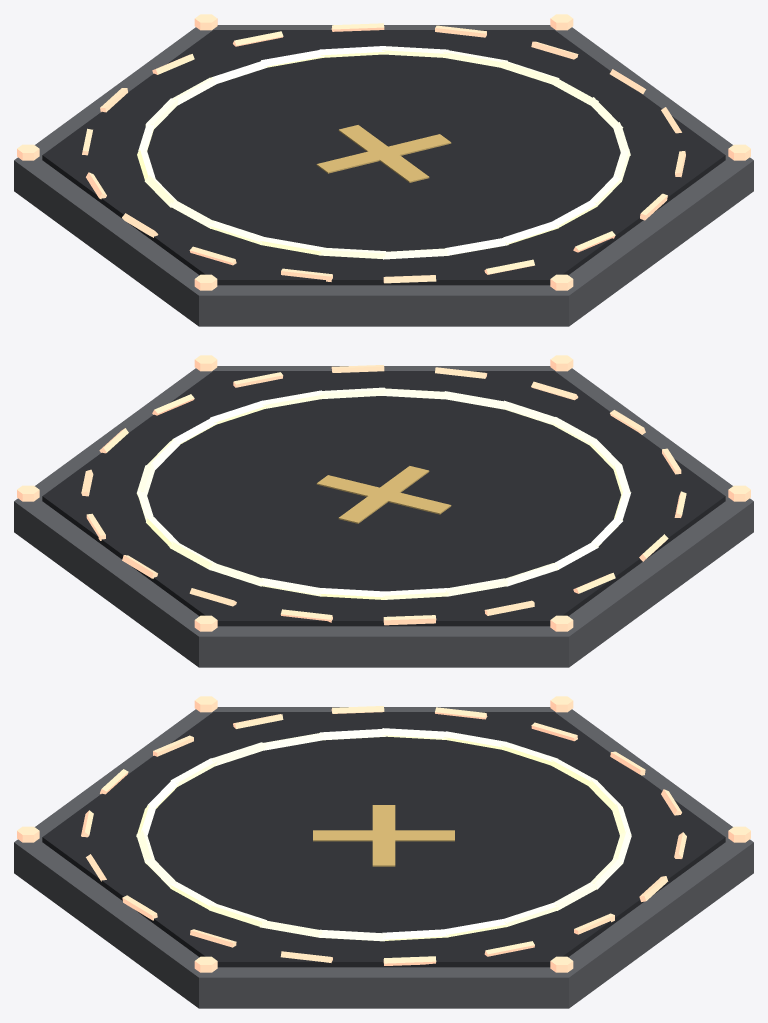
File: Prop_Aegis_LandingPad.fbx
3 renders of one model, top to bottom at view 1: azimuth 30°, elevation 25°; view 2: azimuth 150°, elevation 25°; view 3: azimuth 270°, elevation 25°, orthographic.
Parts seen in each view (by area): view 1: PLP_Top, PLP_Slab, PLP_Ring, PLP_Dash, PLP_Mark1, PLP_Mark0; view 2: PLP_Top, PLP_Slab, PLP_Ring, PLP_Dash, PLP_Mark0, PLP_Mark1; view 3: PLP_Top, PLP_Slab, PLP_Ring, PLP_Dash, PLP_Mark1, PLP_Mark0.
Boxes of the visible parts, x1,y1,x2,y2 form: PLP_Top: (42, 30, 725, 285); PLP_Slab: (14, 25, 753, 326); PLP_Ring: (137, 46, 630, 259); PLP_Dash: (82, 23, 685, 283); PLP_Mark1: (338, 125, 429, 182); PLP_Mark0: (316, 134, 451, 173); PLP_Top: (42, 371, 725, 626); PLP_Slab: (14, 366, 753, 667); PLP_Ring: (136, 387, 631, 599); PLP_Dash: (81, 365, 686, 625); PLP_Mark0: (316, 475, 451, 514); PLP_Mark1: (338, 466, 429, 523); PLP_Top: (42, 712, 725, 967); PLP_Slab: (14, 707, 753, 1008); PLP_Ring: (136, 728, 631, 941); PLP_Dash: (81, 706, 686, 965); PLP_Mark1: (313, 830, 454, 841); PLP_Mark0: (372, 805, 395, 866).
Bounding box in the file's own units: 2.25 × 0.165 × 2.6.
